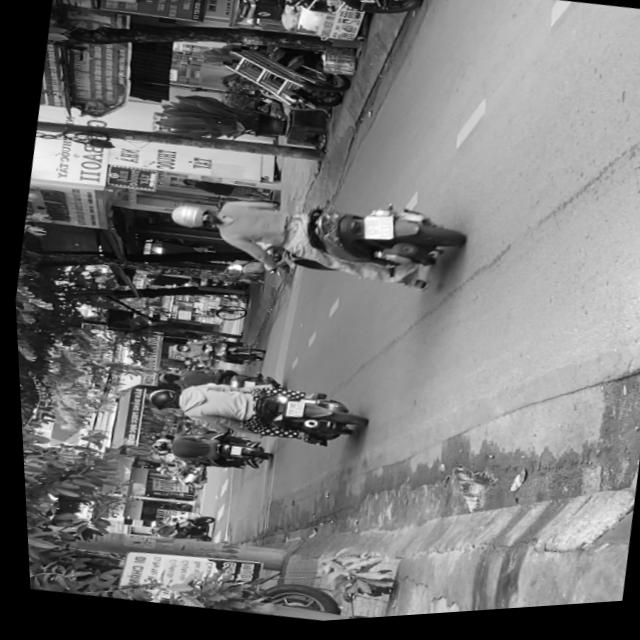helmet: (163, 200, 214, 235), (139, 386, 177, 414)
licenseplate: (154, 168, 466, 316), (133, 360, 363, 465)
nohelmet: (356, 216, 391, 247), (277, 402, 299, 422)
